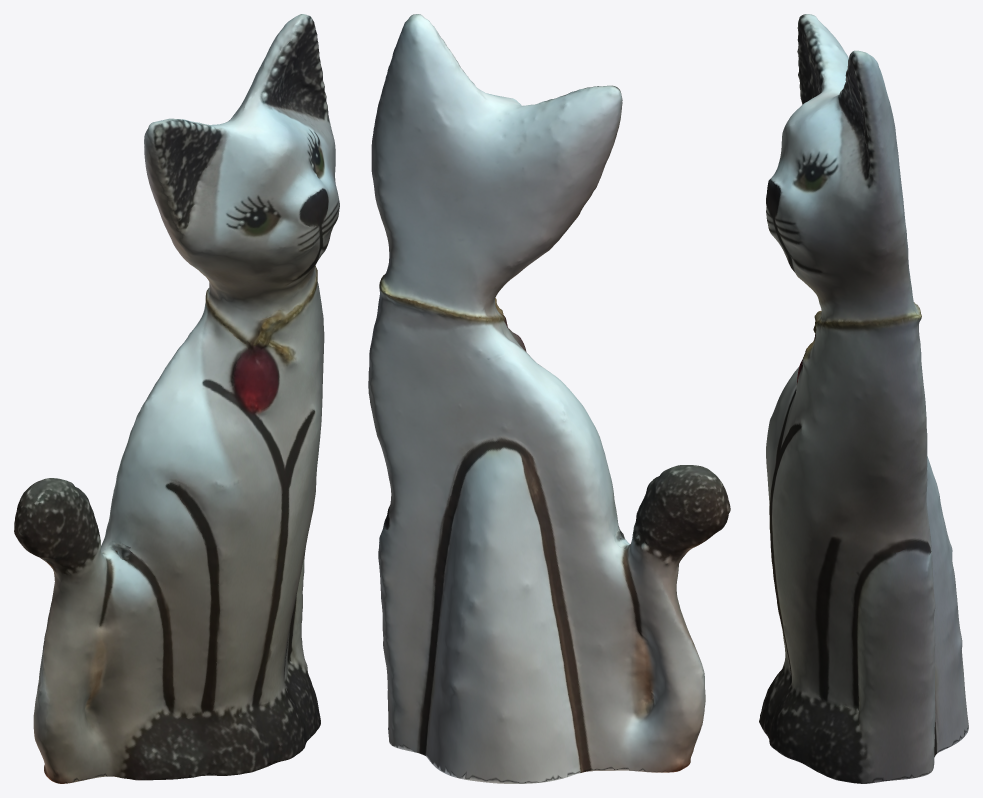
The model's file is cat1.glb.
The picture shows the model from 3 angles, left to right: view 1: azimuth 30°, elevation 25°; view 2: azimuth 150°, elevation 25°; view 3: azimuth 270°, elevation 25°; orthographic projection. The views are drawn at different scales.
Parts seen in each view (by area): view 1: cat2; view 2: cat2; view 3: cat2.
Part boxes in pixels (left/top/right/bottom): cat2: left=14, top=14, right=339, bottom=783; cat2: left=368, top=14, right=730, bottom=783; cat2: left=759, top=14, right=968, bottom=783.
Bounding box in the file's own units: 1.16 × 2.34 × 0.6124.
1 material, 1 textured.
